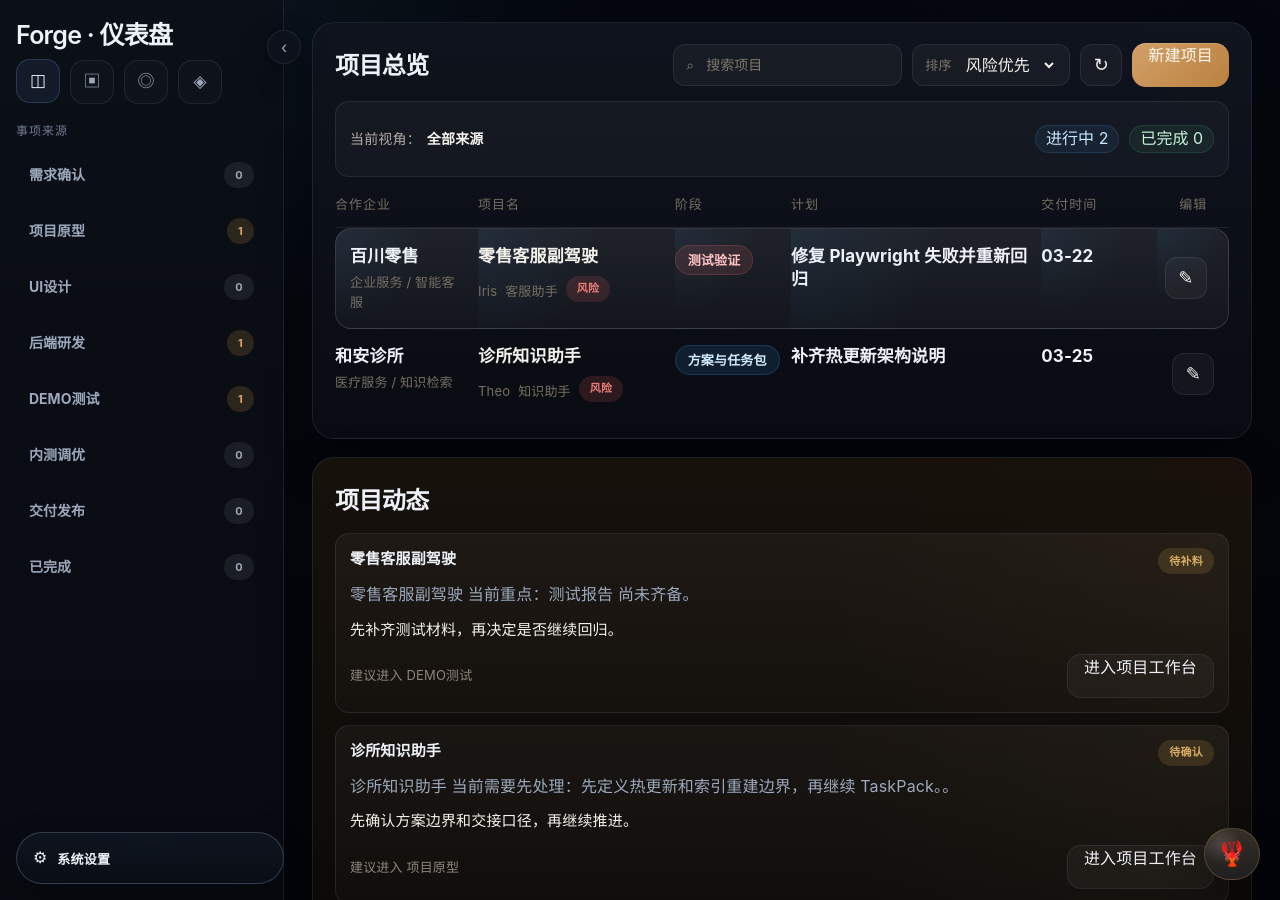
Test case: Forge console shell › opens CEO chat in a dedicated dialog shell
Click the button named "打开 CEO 对话" at (1232, 854), box [1204,828,1260,880]
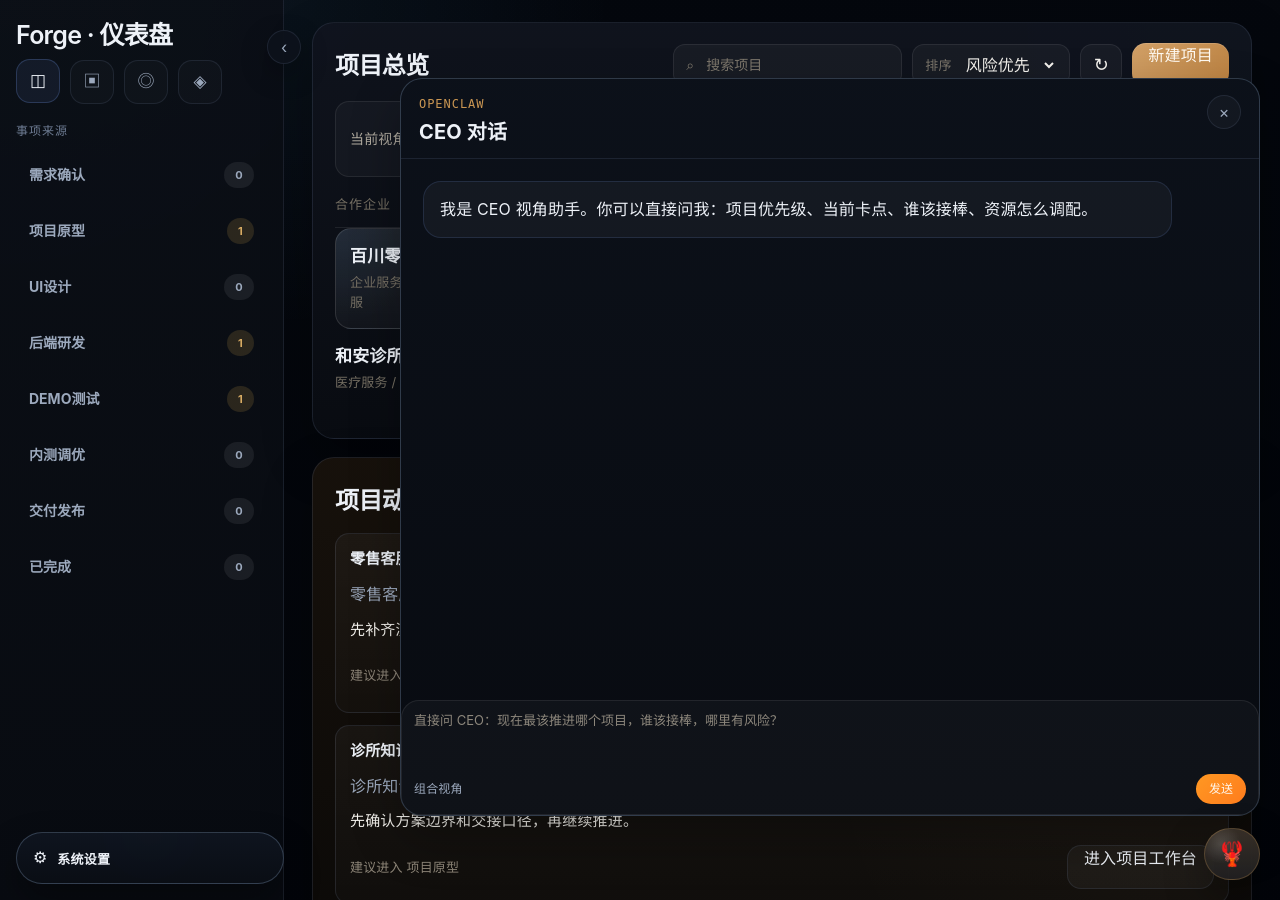
Now the dialog "CEO 对话" is shown, box [400,78,1260,816]
